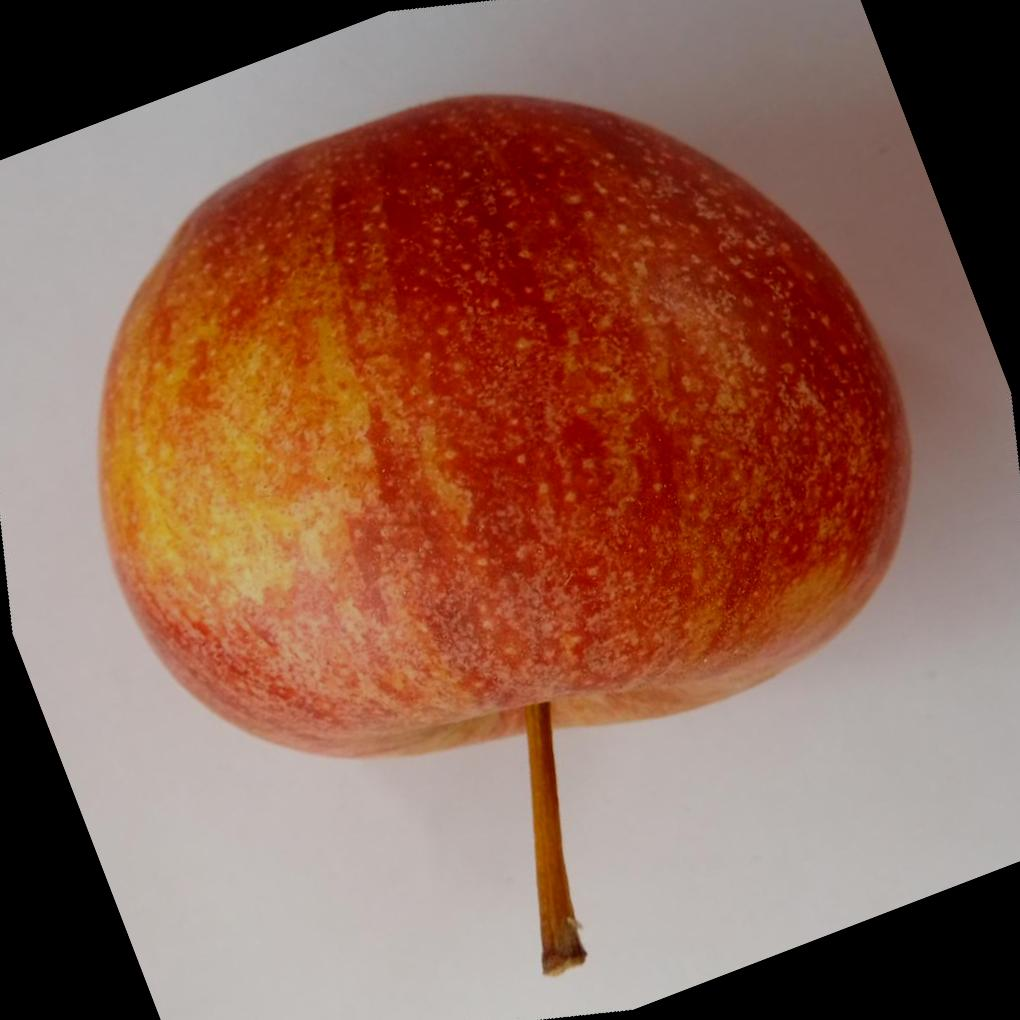FreshGuava: (91, 92, 910, 760)
